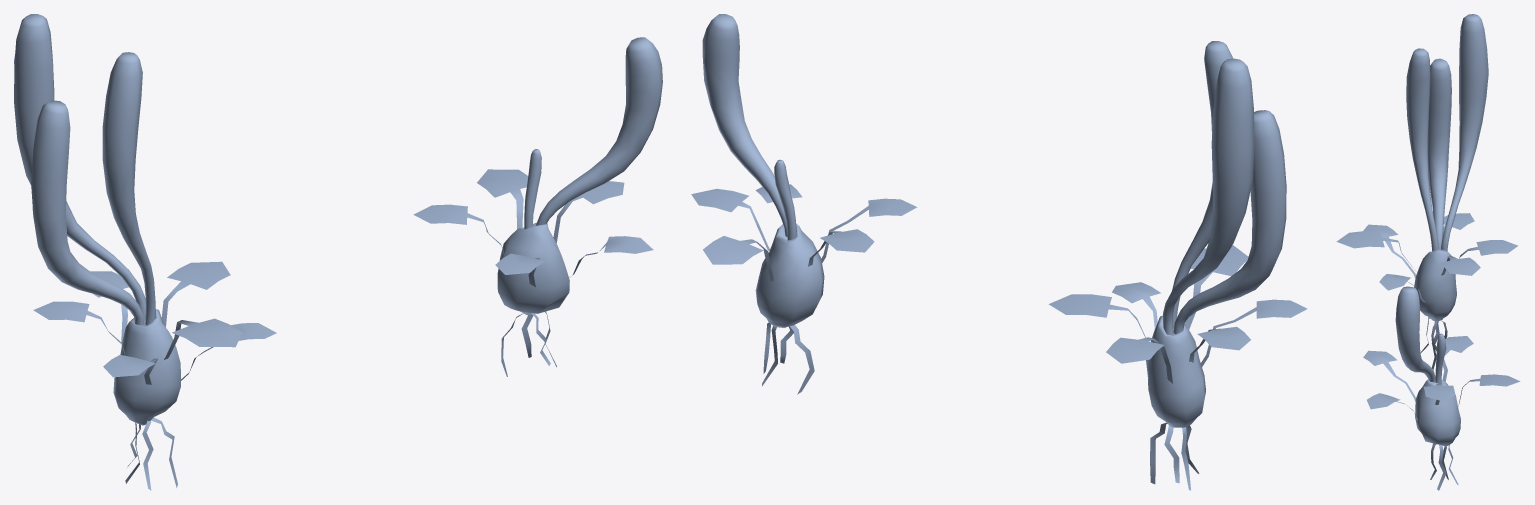
File: beetRoot.fbx
3 views of the same model, side by side, from view 1: azimuth 30°, elevation 25°; view 2: azimuth 150°, elevation 25°; view 3: azimuth 270°, elevation 25° (orthographic). The views are drawn at different scales.
Visible parts, largest first — view 1: beetRootBig, beetRootSmall; view 2: beetRootBig, beetRootSmall; view 3: beetRootBig, beetRootSmall.
Boxes of the visible parts, x1,y1,x2,y2 form: beetRootBig: [14, 14, 276, 490]; beetRootSmall: [413, 37, 662, 376]; beetRootBig: [1048, 41, 1307, 490]; beetRootSmall: [691, 14, 917, 394]; beetRootBig: [1336, 14, 1518, 369]; beetRootSmall: [1363, 286, 1520, 490].
Bounding box in the file's own units: 241 × 181 × 93.14.
